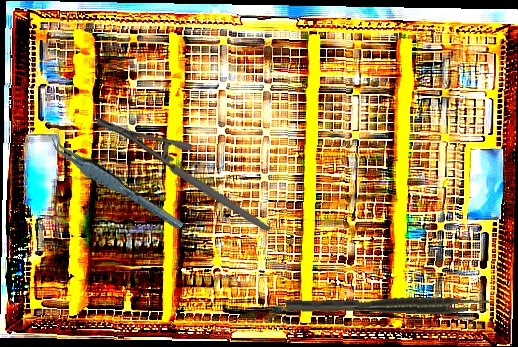Needle Holder: (92, 75, 272, 275)
Tissue Forceps: (46, 122, 186, 245), (285, 294, 491, 315)
